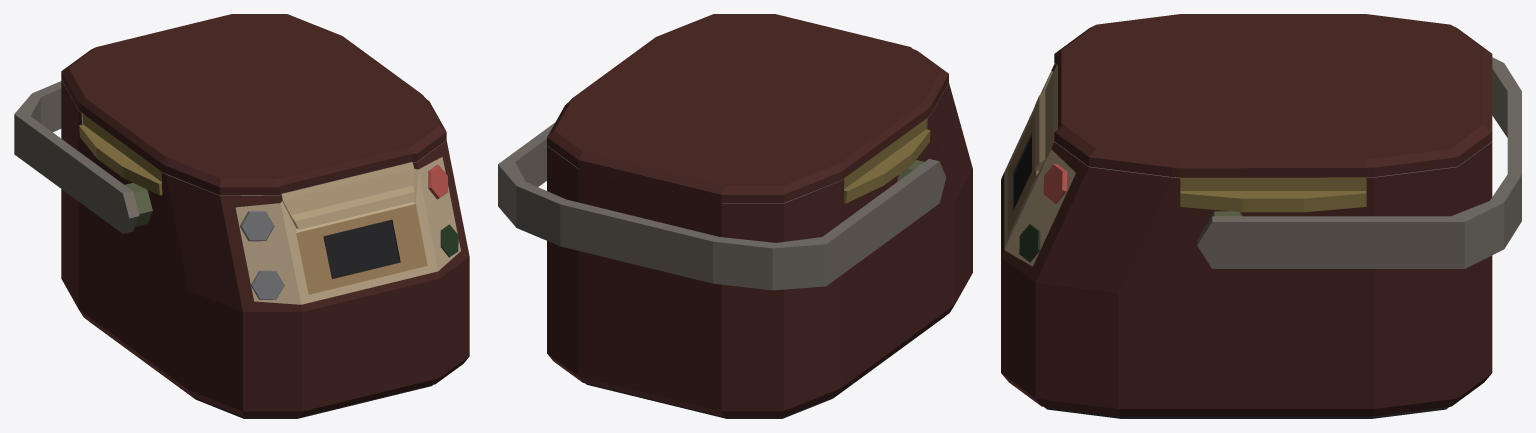
The model's file is ricecooker_01_C.gltf.
3 views of the same model, side by side, from view 1: azimuth 30°, elevation 25°; view 2: azimuth 150°, elevation 25°; view 3: azimuth 270°, elevation 25° (orthographic). The views are drawn at different scales.
Parts seen in each view (by area): view 1: ricecooker_01_C, Capforricecooker_01_C, carryhandle_01_C, openingmechanism_01_C, Pen_01_C, buttontop_01_C, buttonbot_01_C, buttonSTOP_01_C, buttonSTART_01_C; view 2: ricecooker_01_C, Capforricecooker_01_C, carryhandle_01_C, Pen_01_C; view 3: ricecooker_01_C, Capforricecooker_01_C, carryhandle_01_C, Pen_01_C, openingmechanism_01_C, buttonSTOP_01_C, buttonSTART_01_C.
Part boxes in pixels (x1,y1,x2,y2): ricecooker_01_C: [61, 80, 469, 418]; Capforricecooker_01_C: [61, 14, 446, 195]; carryhandle_01_C: [14, 81, 152, 233]; openingmechanism_01_C: [281, 162, 414, 229]; Pen_01_C: [79, 114, 162, 195]; buttontop_01_C: [240, 211, 274, 241]; buttonbot_01_C: [251, 270, 284, 299]; buttonSTOP_01_C: [428, 165, 447, 199]; buttonSTART_01_C: [440, 224, 458, 257]; ricecooker_01_C: [547, 83, 972, 418]; Capforricecooker_01_C: [547, 14, 948, 203]; carryhandle_01_C: [498, 122, 946, 290]; Pen_01_C: [844, 118, 930, 203]; ricecooker_01_C: [1001, 63, 1492, 418]; Capforricecooker_01_C: [1054, 14, 1492, 177]; carryhandle_01_C: [1197, 57, 1521, 268]; Pen_01_C: [1180, 177, 1366, 212]; openingmechanism_01_C: [1034, 66, 1057, 170]; buttonSTOP_01_C: [1043, 163, 1067, 203]; buttonSTART_01_C: [1019, 224, 1040, 262].
Bounding box in the file's own units: 0.3587 × 0.2454 × 0.442.
1 material, 1 textured.
